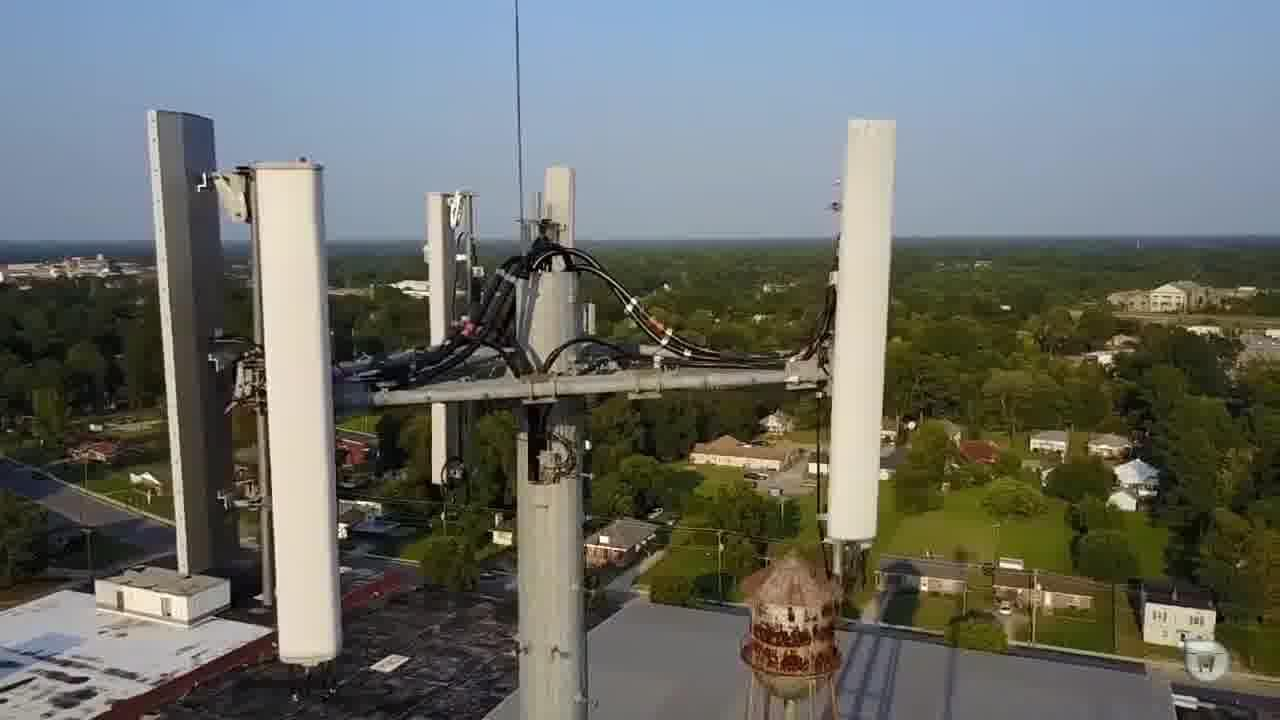antenna: (247, 157, 352, 667), (141, 105, 253, 582), (833, 109, 914, 542), (427, 189, 474, 484), (543, 163, 580, 352)
